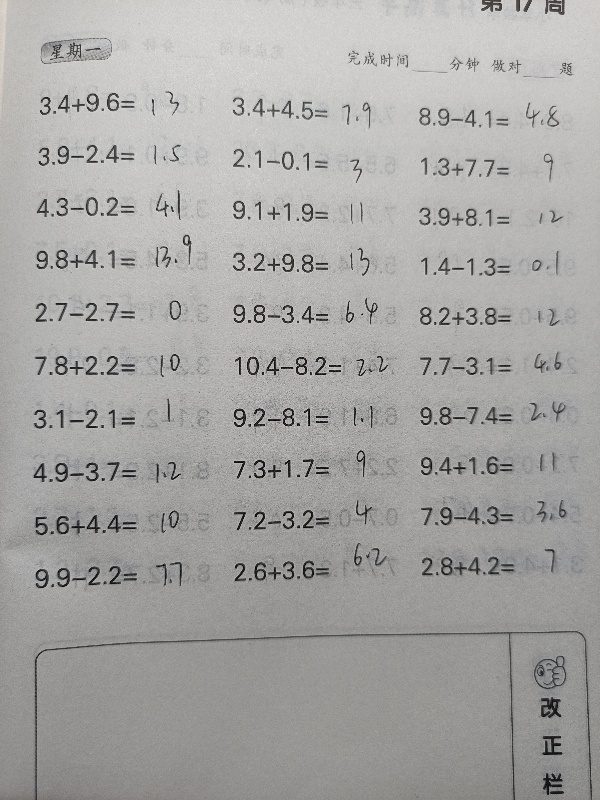equation: (225, 400, 405, 441), (225, 552, 405, 588), (28, 188, 208, 224), (29, 136, 209, 172), (26, 558, 206, 593), (413, 549, 593, 584), (25, 506, 205, 541), (224, 502, 404, 537), (24, 454, 204, 489), (225, 451, 405, 486), (25, 402, 205, 437), (226, 349, 406, 384), (26, 347, 206, 382), (27, 295, 207, 330), (28, 242, 208, 277), (223, 91, 403, 126), (30, 85, 210, 120), (412, 498, 592, 532), (411, 448, 591, 482), (412, 399, 592, 433), (412, 349, 592, 383), (411, 299, 591, 333), (225, 297, 405, 331), (223, 245, 403, 279), (411, 200, 591, 234), (223, 194, 403, 228), (412, 150, 592, 184), (224, 143, 404, 177), (410, 100, 590, 134), (412, 250, 592, 283)
